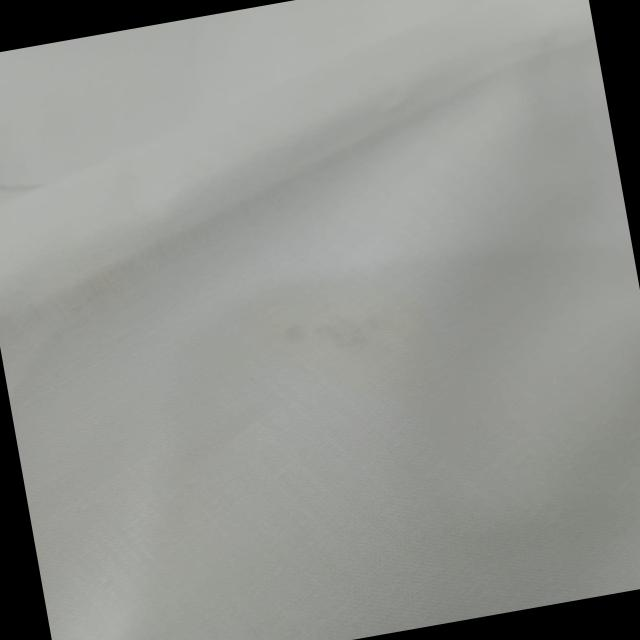stain: (258, 288, 412, 365)
